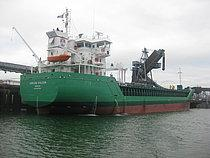Ship: (15, 6, 199, 121)
